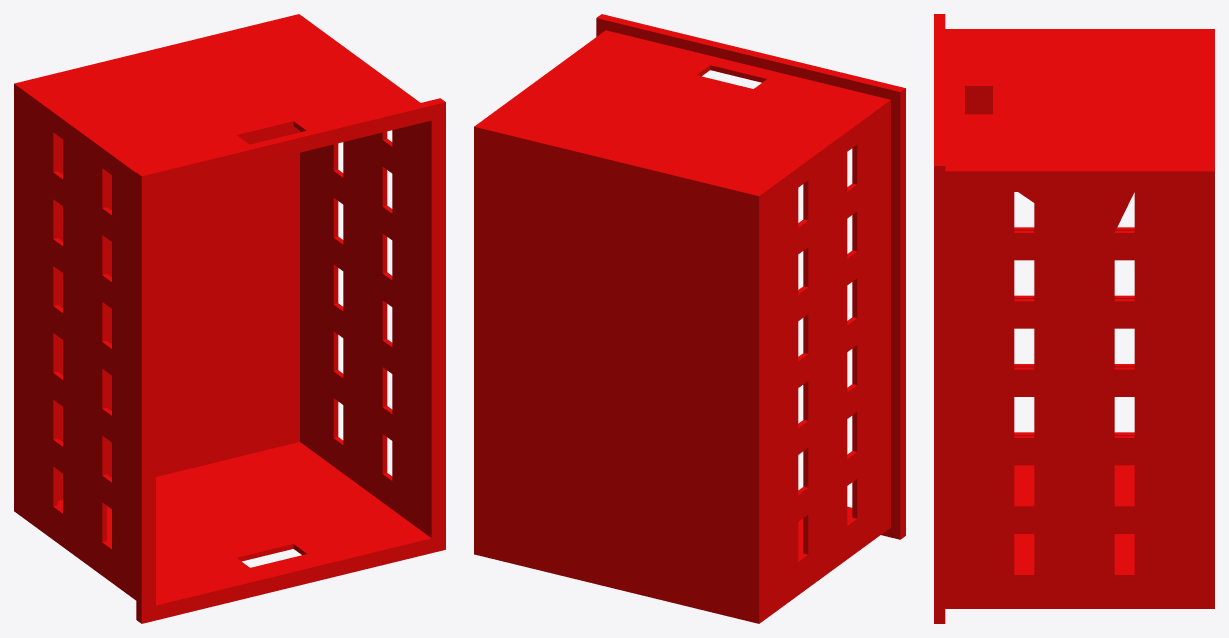
3 views of the same model, side by side, from view 1: azimuth 30°, elevation 25°; view 2: azimuth 150°, elevation 25°; view 3: azimuth 270°, elevation 25° (orthographic). The views are drawn at different scales.
Parts seen in each view (by area): view 1: BOX_link; view 2: BOX_link; view 3: BOX_link.
Part boxes in pixels (box(x1,y1,x2,y2)): BOX_link: box(14, 14, 445, 623); BOX_link: box(474, 14, 905, 623); BOX_link: box(934, 14, 1214, 623).
Bounding box in the file's own units: 0.32 × 0.45 × 0.25.
